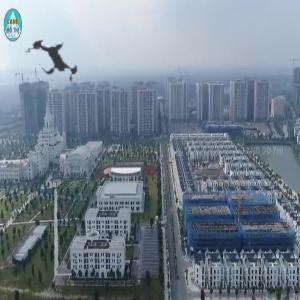drone: (11, 16, 104, 109)
